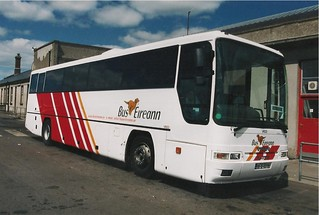bus: (23, 29, 289, 185)
